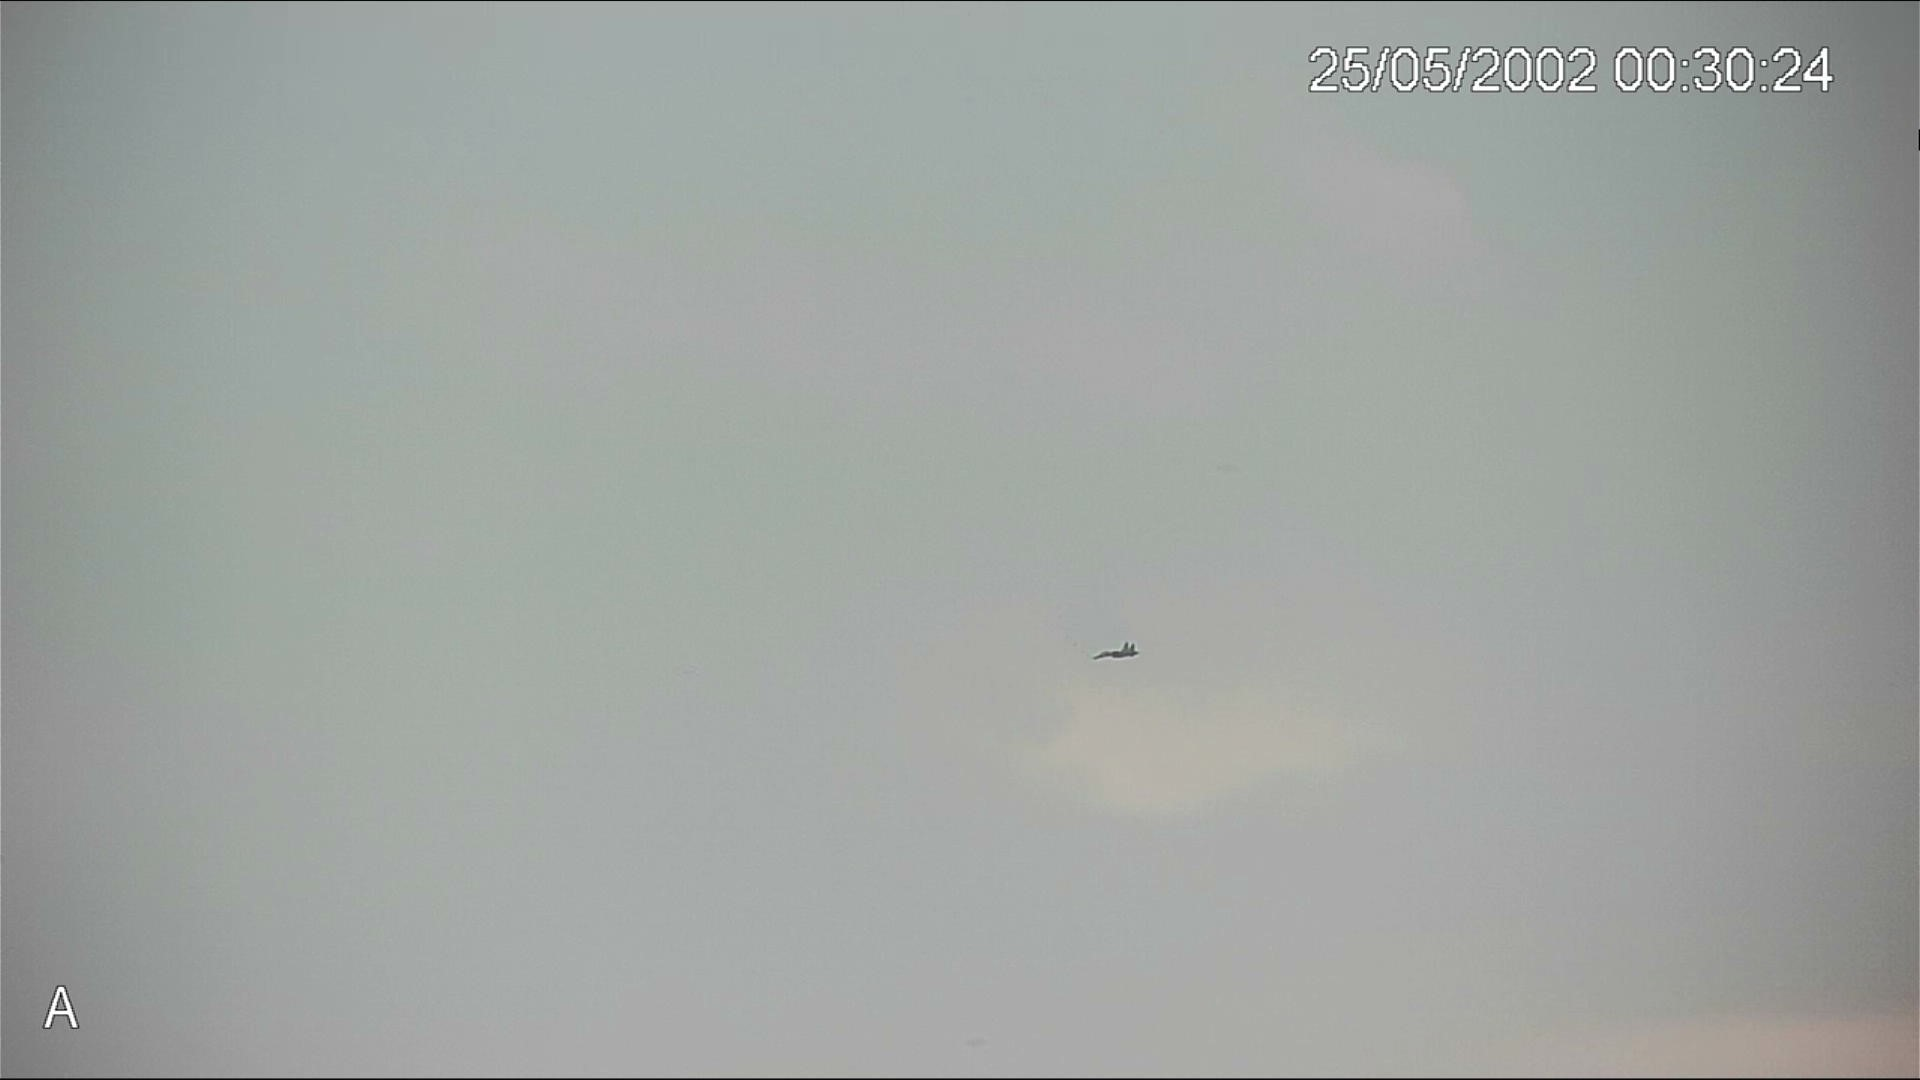SU_30: (1093, 642, 1139, 663)
